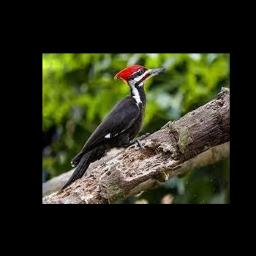Woodpecker: (59, 64, 167, 191)
